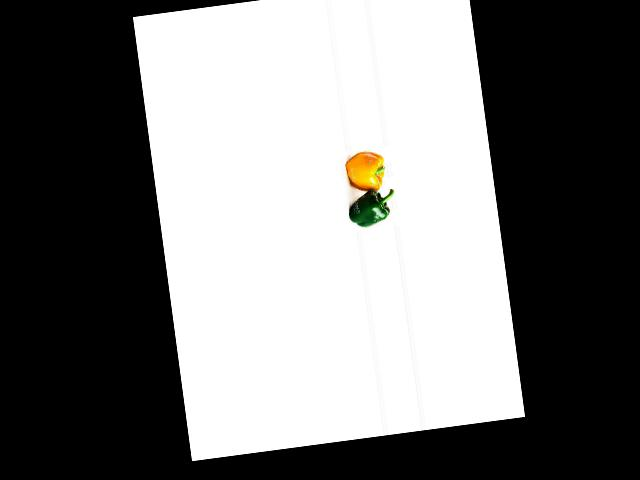bell_pepper: (340, 188, 394, 233)
